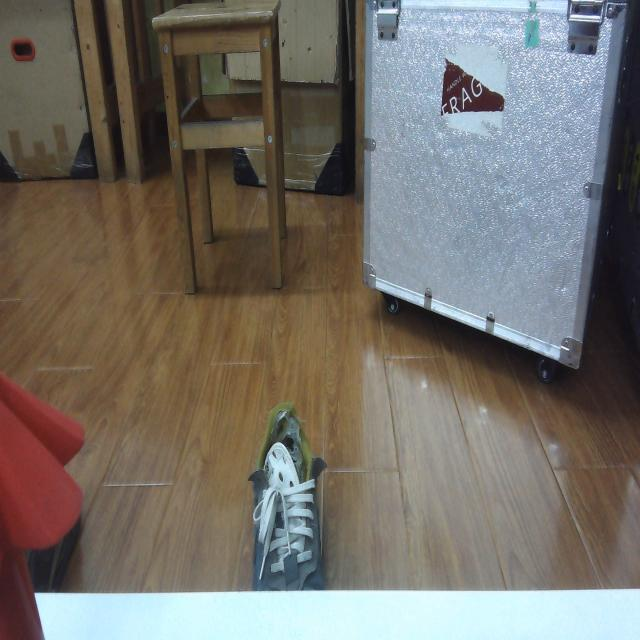zred-Stake-Head: (0, 370, 84, 550)
